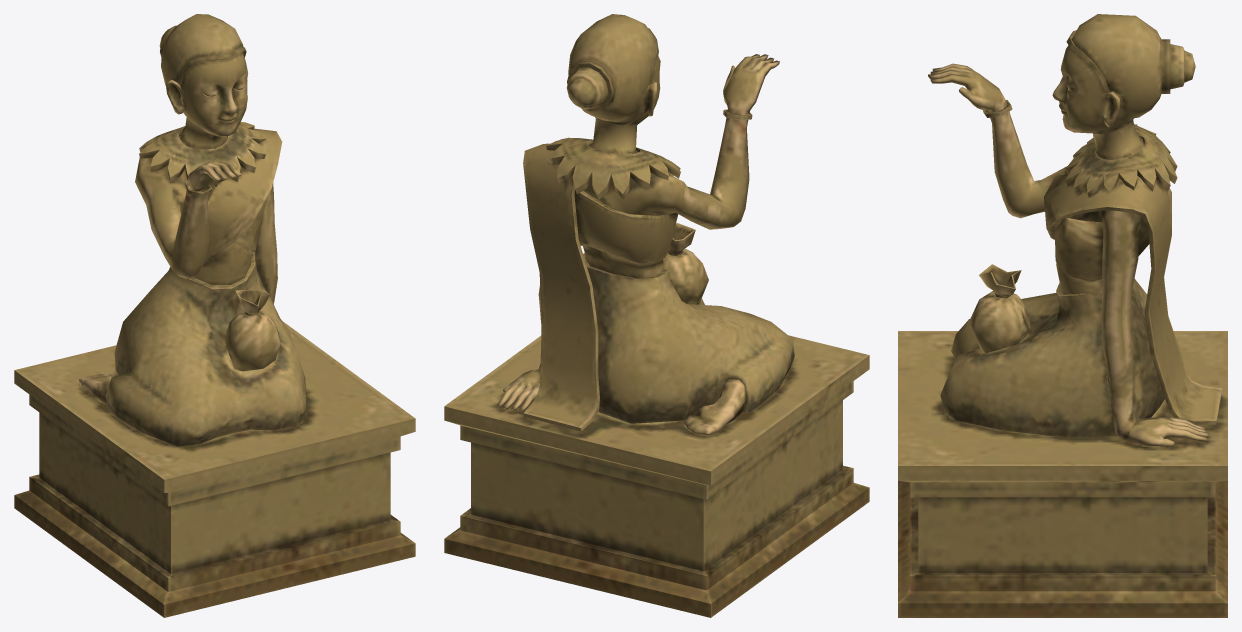
The model's file is goldFigure01.FBX.
3 renders of one model, left to right at view 1: azimuth 30°, elevation 25°; view 2: azimuth 150°, elevation 25°; view 3: azimuth 270°, elevation 25°, orthographic. The views are drawn at different scales.
Parts seen in each view (by area): view 1: SM_GoldFigure01; view 2: SM_GoldFigure01; view 3: SM_GoldFigure01.
Part boxes in pixels (x1,y1,x2,y2): SM_GoldFigure01: (14, 14, 415, 617); SM_GoldFigure01: (444, 14, 869, 617); SM_GoldFigure01: (898, 14, 1227, 617).
Size of the model in its own units: 19.75 by 36.85 by 20.39.
Materials: 1 (1 with a texture image).
